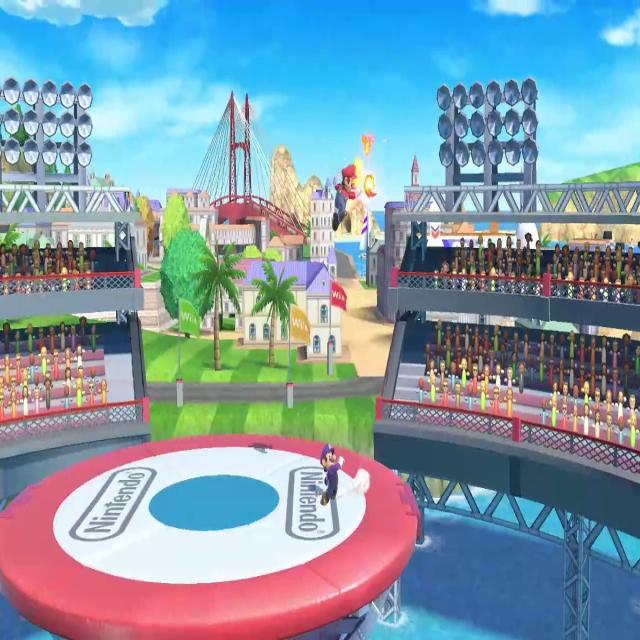Mario-DS: (316, 434, 348, 509)
Mario-NB: (328, 156, 368, 238)
